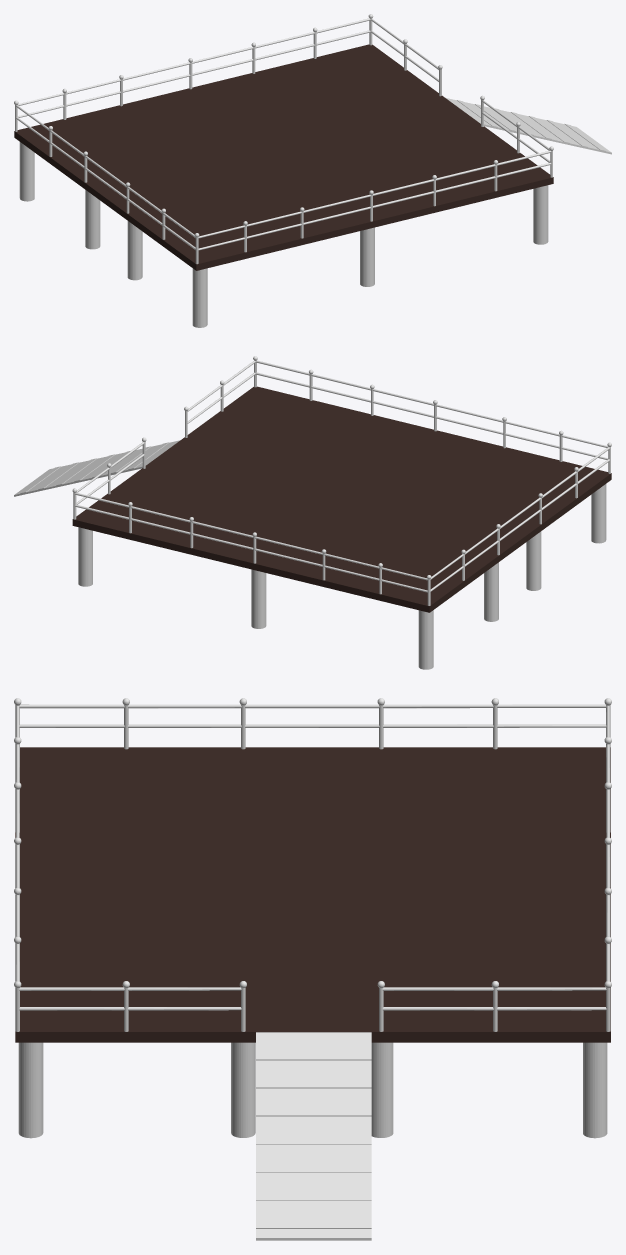
Rendered from Platform.fbx.
3 renders of one model, top to bottom at view 1: azimuth 30°, elevation 25°; view 2: azimuth 150°, elevation 25°; view 3: azimuth 270°, elevation 25°, orthographic. The views are drawn at different scales.
Parts seen in each view (by area): view 1: Plane.001, Cube, Cylinder.045, Cylinder.044, Cylinder.047, Cylinder.046, Cylinder.073, Cylinder.081, Cylinder.075, Cylinder.077, Cylinder.072, Cylinder.078 (+2 smaller); view 2: Plane.001, Cube, Cylinder.046, Cylinder.047, Cylinder.044, Cylinder.045, Cylinder.075, Cylinder.076, Cylinder.073, Cylinder.074, Cylinder.077, Cylinder.078 (+2 smaller); view 3: Plane.001, Cube, Cylinder.048, Cylinder.081, Cylinder.074, Cylinder.080, Cylinder.049, Cylinder.079, Cylinder.044, Cylinder.047, Cylinder.052, Cylinder.053 (+2 smaller).
Part boxes in pixels (bbox=[...]): Plane.001: bbox=[14, 44, 553, 270]; Cube: bbox=[446, 98, 611, 154]; Cylinder.045: bbox=[198, 162, 551, 250]; Cylinder.044: bbox=[198, 150, 551, 238]; Cylinder.047: bbox=[18, 18, 370, 105]; Cylinder.046: bbox=[17, 30, 370, 117]; Cylinder.073: bbox=[192, 268, 207, 327]; Cylinder.081: bbox=[533, 185, 548, 244]; Cylinder.075: bbox=[19, 142, 34, 201]; Cylinder.077: bbox=[127, 221, 142, 280]; Cylinder.072: bbox=[360, 227, 374, 286]; Cylinder.078: bbox=[85, 190, 100, 249]; Plane.001: bbox=[72, 386, 611, 612]; Cube: bbox=[14, 440, 179, 496]; Cylinder.046: bbox=[75, 504, 427, 592]; Cylinder.047: bbox=[75, 492, 427, 580]; Cylinder.044: bbox=[255, 360, 607, 447]; Cylinder.045: bbox=[255, 372, 608, 459]; Cylinder.075: bbox=[418, 610, 433, 669]; Cylinder.076: bbox=[251, 569, 266, 628]; Cylinder.073: bbox=[591, 484, 606, 543]; Cylinder.074: bbox=[78, 527, 92, 586]; Cylinder.077: bbox=[526, 531, 541, 590]; Cylinder.078: bbox=[484, 562, 498, 621]; Plane.001: bbox=[15, 747, 610, 1042]; Cube: bbox=[256, 1032, 371, 1240]; Cylinder.048: bbox=[19, 704, 606, 708]; Cylinder.081: bbox=[18, 1042, 43, 1138]; Cylinder.074: bbox=[583, 1042, 607, 1138]; Cylinder.080: bbox=[231, 1042, 255, 1137]; Cylinder.049: bbox=[19, 724, 606, 727]; Cylinder.079: bbox=[371, 1042, 393, 1137]; Cylinder.044: bbox=[16, 706, 19, 980]; Cylinder.047: bbox=[606, 706, 609, 980]; Cylinder.052: bbox=[382, 987, 606, 990]; Cylinder.053: bbox=[382, 1007, 606, 1010].
Bounding box in the file's own units: 92891 × 17450 × 60118.
